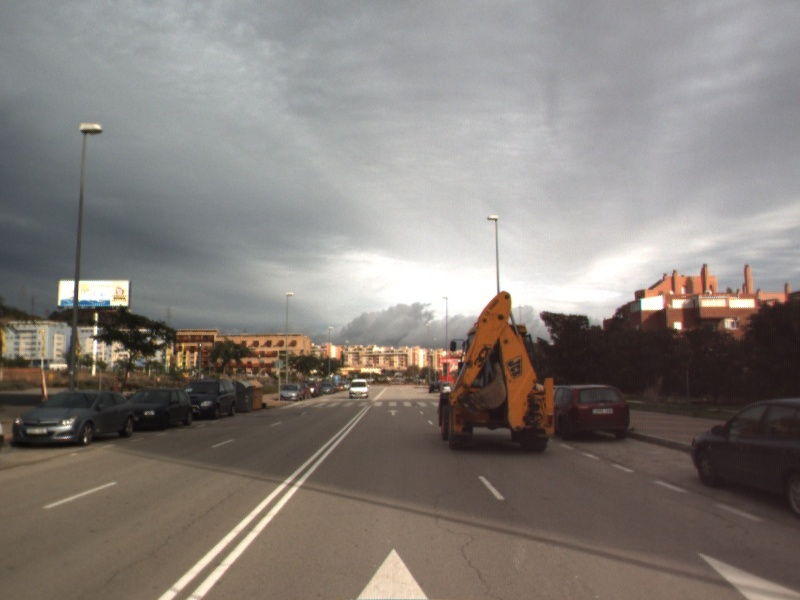STRAIGHT: (385, 407, 402, 417)
